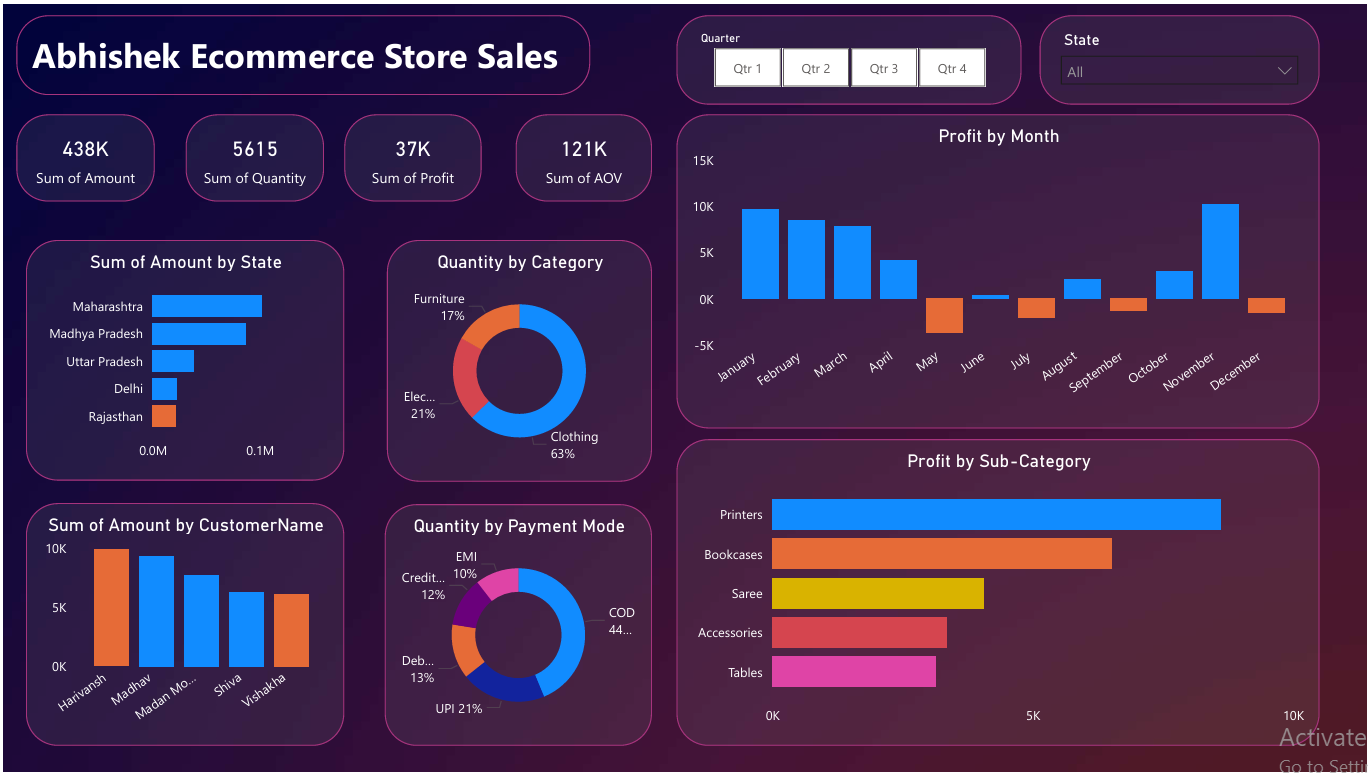

The dashboard page shown, as its layout file describes it:
{"tool":"powerbi","page":{"name":"Page 1","canvas":[1280,720],"ordinal":0},"visuals":[{"type":"columnChart","title":"Profit by Month","fields":{"Y":["Details.Profit"],"Category":["Orders.Order Date.Variation.Date Hierarchy.Month"]},"box":[631.9,102.9,604,295.4],"z":0},{"type":"barChart","title":"Profit by Sub-Category","fields":{"Category":["Details.Sub-Category"],"Y":["Details.Profit"]},"box":[631.9,407.9,604,288.1],"z":1000},{"type":"donutChart","title":"Quantity by Category","fields":{"Category":["Details.Category"],"Y":["Details.Quantity"]},"box":[359.6,221,249.6,226.5],"z":2000},{"type":"donutChart","title":"Quantity by Payment Mode","fields":{"Category":["Details.PaymentMode"],"Y":["Details.Quantity"]},"box":[358.1,469.3,251.1,226.4],"z":3000},{"type":"card","fields":{"Values":["Details.Amount"]},"box":[12.1,102.9,129.5,82.3],"z":4000},{"type":"card","fields":{"Values":["Details.Quantity"]},"box":[170.7,102.9,130.7,82.3],"z":5000},{"type":"card","fields":{"Values":["Details.Profit"]},"box":[319.6,102.9,129.5,82.3],"z":6000},{"type":"card","fields":{"Values":["Details.AOV"]},"box":[480.6,102.9,128.3,82.3],"z":7000},{"type":"barChart","fields":{"Category":["Orders.State"],"Y":["Details.Amount"]},"box":[20.6,220.9,299.1,226.4],"z":8000},{"type":"columnChart","fields":{"Y":["Details.Amount"],"Category":["Orders.CustomerName"]},"box":[20.6,468.5,299,227.6],"z":9000},{"type":"textbox","box":[12.1,9.7,538.7,75.1],"z":10000},{"type":"slicer","fields":{"Values":["Orders.Order Date.Variation.Date Hierarchy.Quarter"]},"box":[632,10,324,84],"z":11000},{"type":"slicer","fields":{"Values":["Orders.State"]},"box":[973,10,263,84],"z":12000}]}

Visuals, with their boxes in screenshot pixels (x1, y1, x2, y2), scaled from the page's 1280x720 canvas onto the 1368x778 screenshot:
"Profit by Month" columnChart: {"x1": 675, "y1": 111, "x2": 1321, "y2": 430}
"Profit by Sub-Category" barChart: {"x1": 675, "y1": 441, "x2": 1321, "y2": 752}
"Quantity by Category" donutChart: {"x1": 384, "y1": 239, "x2": 651, "y2": 484}
"Quantity by Payment Mode" donutChart: {"x1": 383, "y1": 507, "x2": 651, "y2": 752}
card - Details.Amount: {"x1": 13, "y1": 111, "x2": 151, "y2": 200}
card - Details.Quantity: {"x1": 182, "y1": 111, "x2": 322, "y2": 200}
card - Details.Profit: {"x1": 342, "y1": 111, "x2": 480, "y2": 200}
card - Details.AOV: {"x1": 514, "y1": 111, "x2": 651, "y2": 200}
barChart - Orders.State x Details.Amount: {"x1": 22, "y1": 239, "x2": 342, "y2": 483}
columnChart - Details.Amount x Orders.CustomerName: {"x1": 22, "y1": 506, "x2": 342, "y2": 752}
textbox: {"x1": 13, "y1": 10, "x2": 589, "y2": 92}
slicer - Orders.Order Date.Variation.Date Hierarchy.Quarter: {"x1": 675, "y1": 11, "x2": 1022, "y2": 102}
slicer - Orders.State: {"x1": 1040, "y1": 11, "x2": 1321, "y2": 102}
